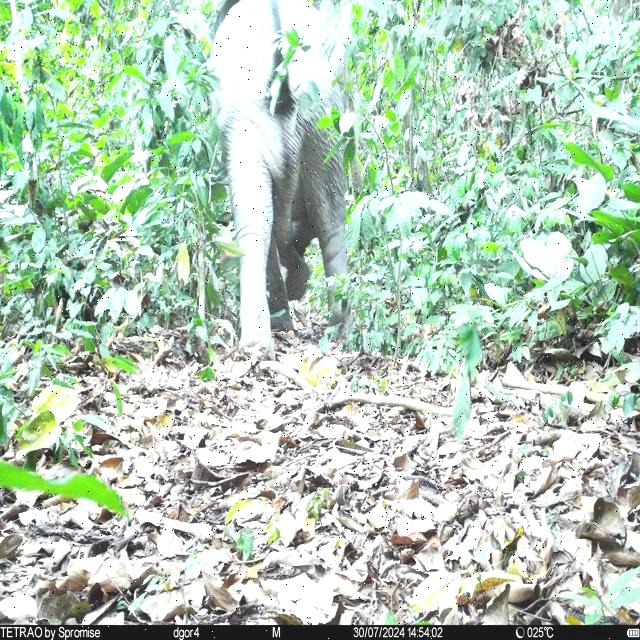elephant: (210, 0, 358, 368)
